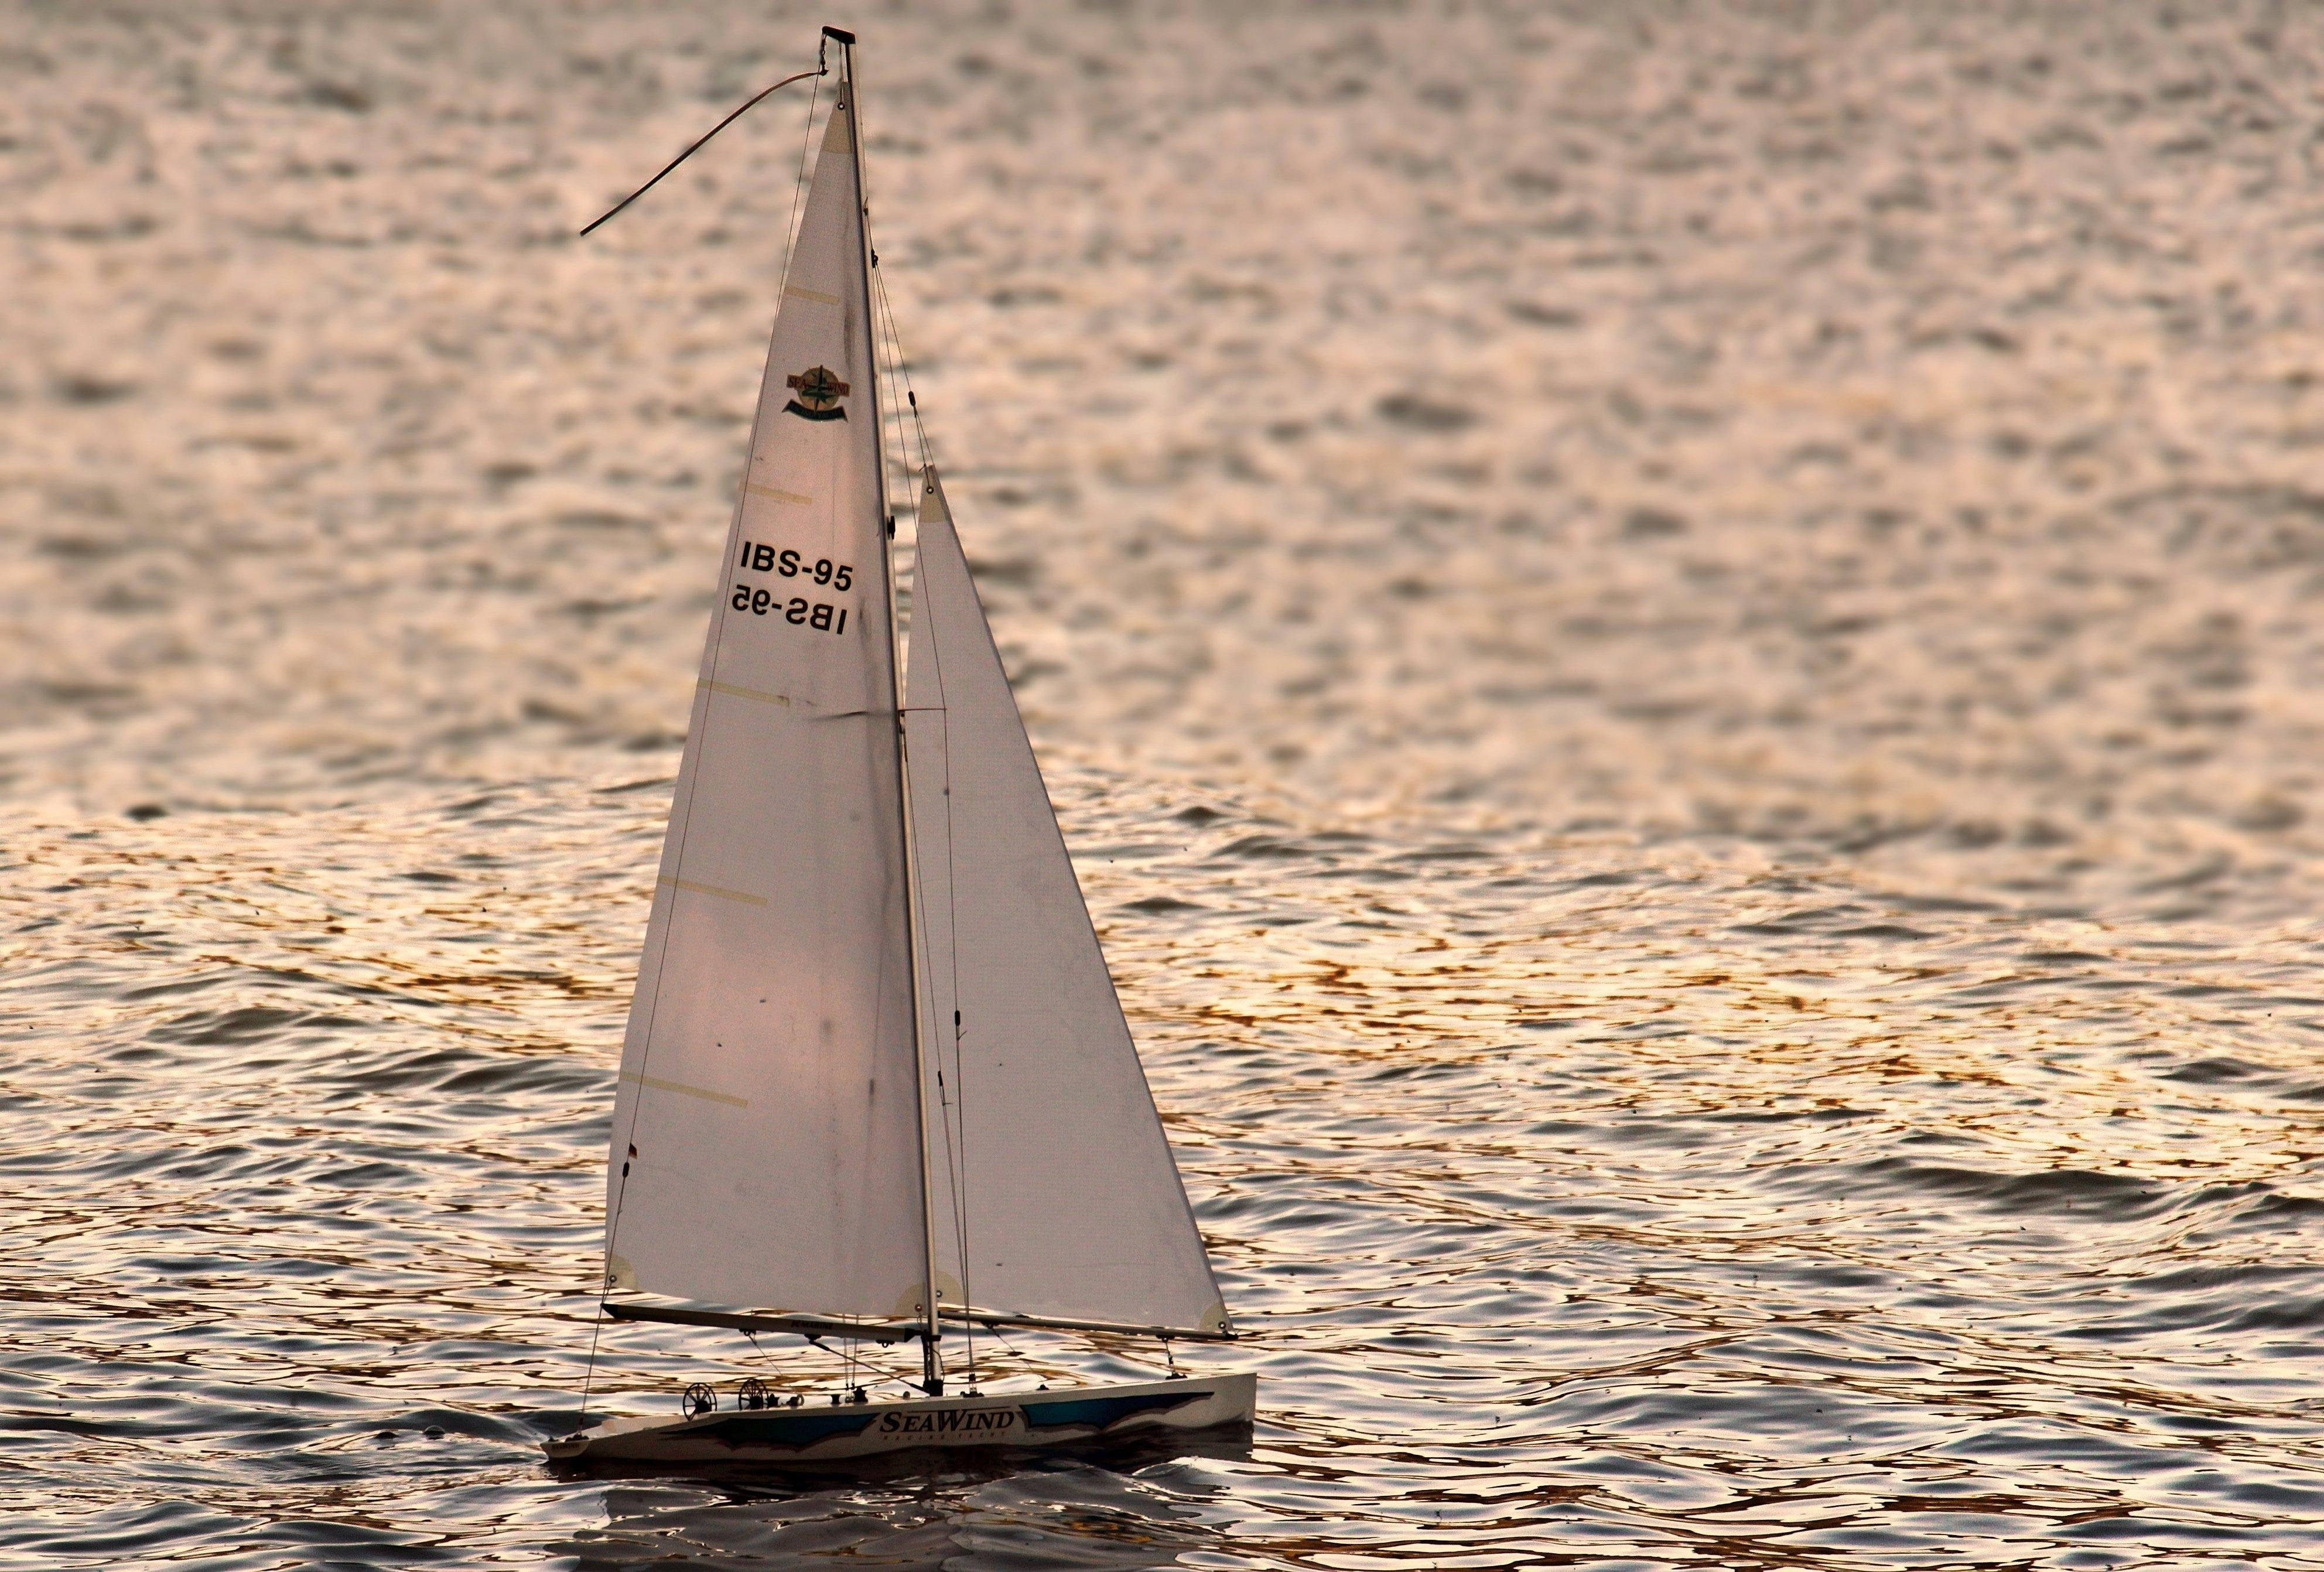fanchuan: (507, 0, 1277, 1497)
